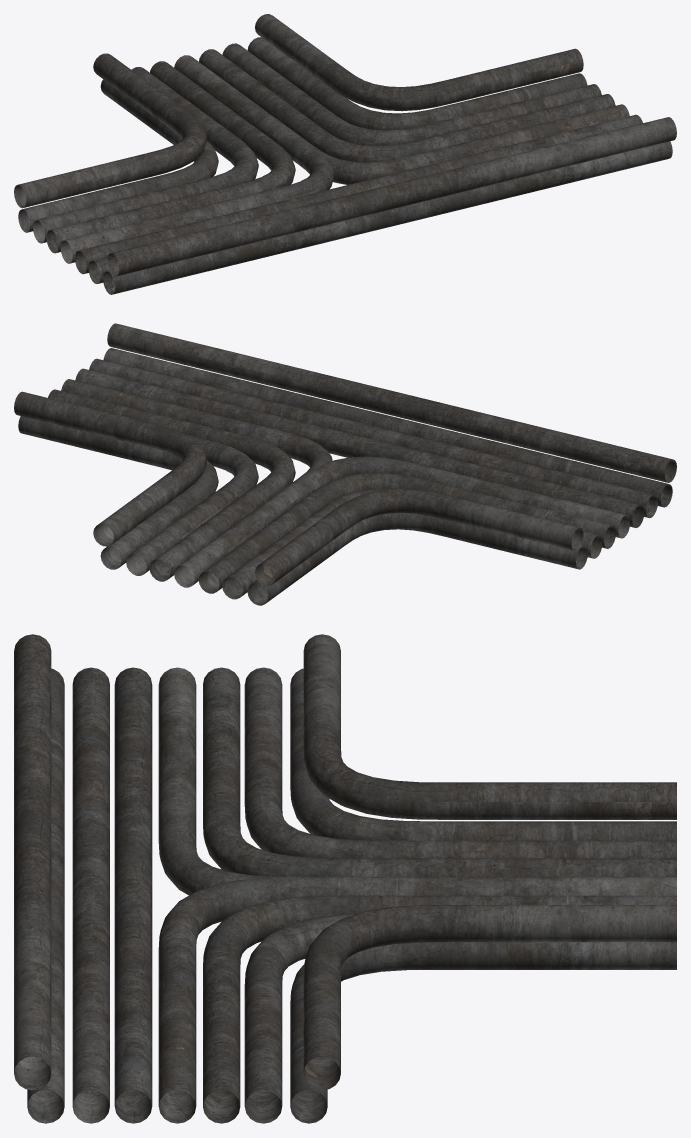
Rendered from Pipes_T_Junction.glb.
3 renders of one model, top to bottom at view 1: azimuth 30°, elevation 25°; view 2: azimuth 150°, elevation 25°; view 3: azimuth 270°, elevation 25°, orthographic. The views are drawn at different scales.
Parts seen in each view (by area): view 1: Pipes_T_Junction; view 2: Pipes_T_Junction; view 3: Pipes_T_Junction.
Boxes of the visible parts, x1,y1,x2,y2 form: Pipes_T_Junction: (14, 14, 676, 294); Pipes_T_Junction: (14, 323, 676, 605); Pipes_T_Junction: (14, 634, 676, 1123).
Bounding box in the file's own units: 4 × 0.2967 × 2.65.
Materials: 1 (1 with a texture image).
